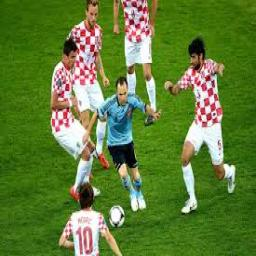football: (109, 206, 125, 227)
